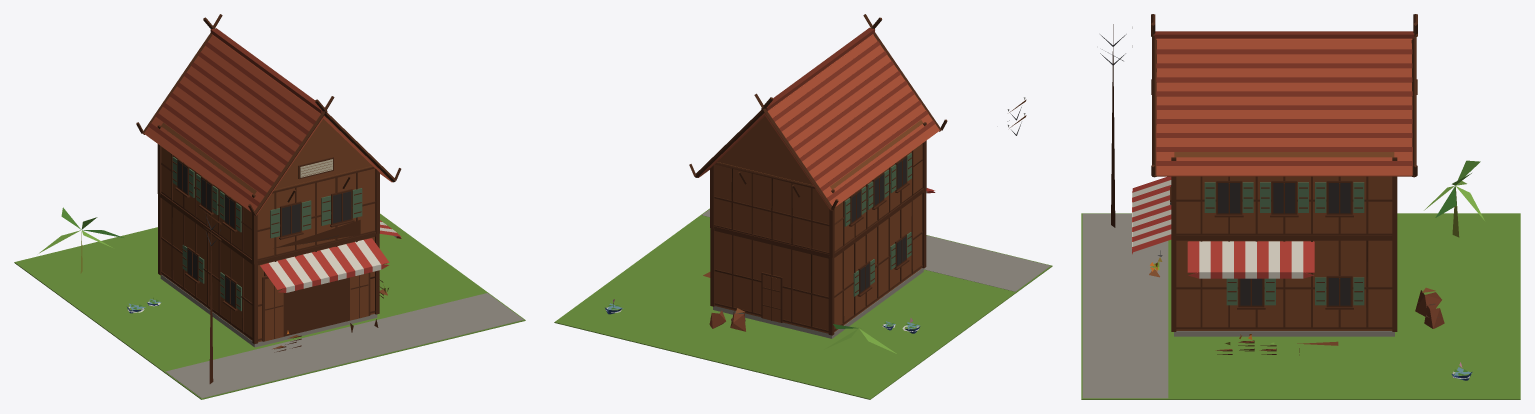
Rendered from shop_1.glb.
The picture shows the model from 3 angles, left to right: view 1: azimuth 30°, elevation 25°; view 2: azimuth 150°, elevation 25°; view 3: azimuth 270°, elevation 25°; orthographic projection. The views are drawn at different scales.
Parts seen in each view (by area): view 1: body, windows; view 2: body, windows; view 3: body, windows.
Part boxes in pixels (bbox=[...]): body: bbox=[14, 14, 525, 399]; windows: bbox=[178, 161, 351, 306]; body: bbox=[554, 14, 1052, 399]; windows: bbox=[851, 157, 906, 292]; body: bbox=[1081, 14, 1520, 399]; windows: bbox=[1158, 183, 1350, 305].
Size of the model in its own units: 16.03 by 11.41 by 15.9.
